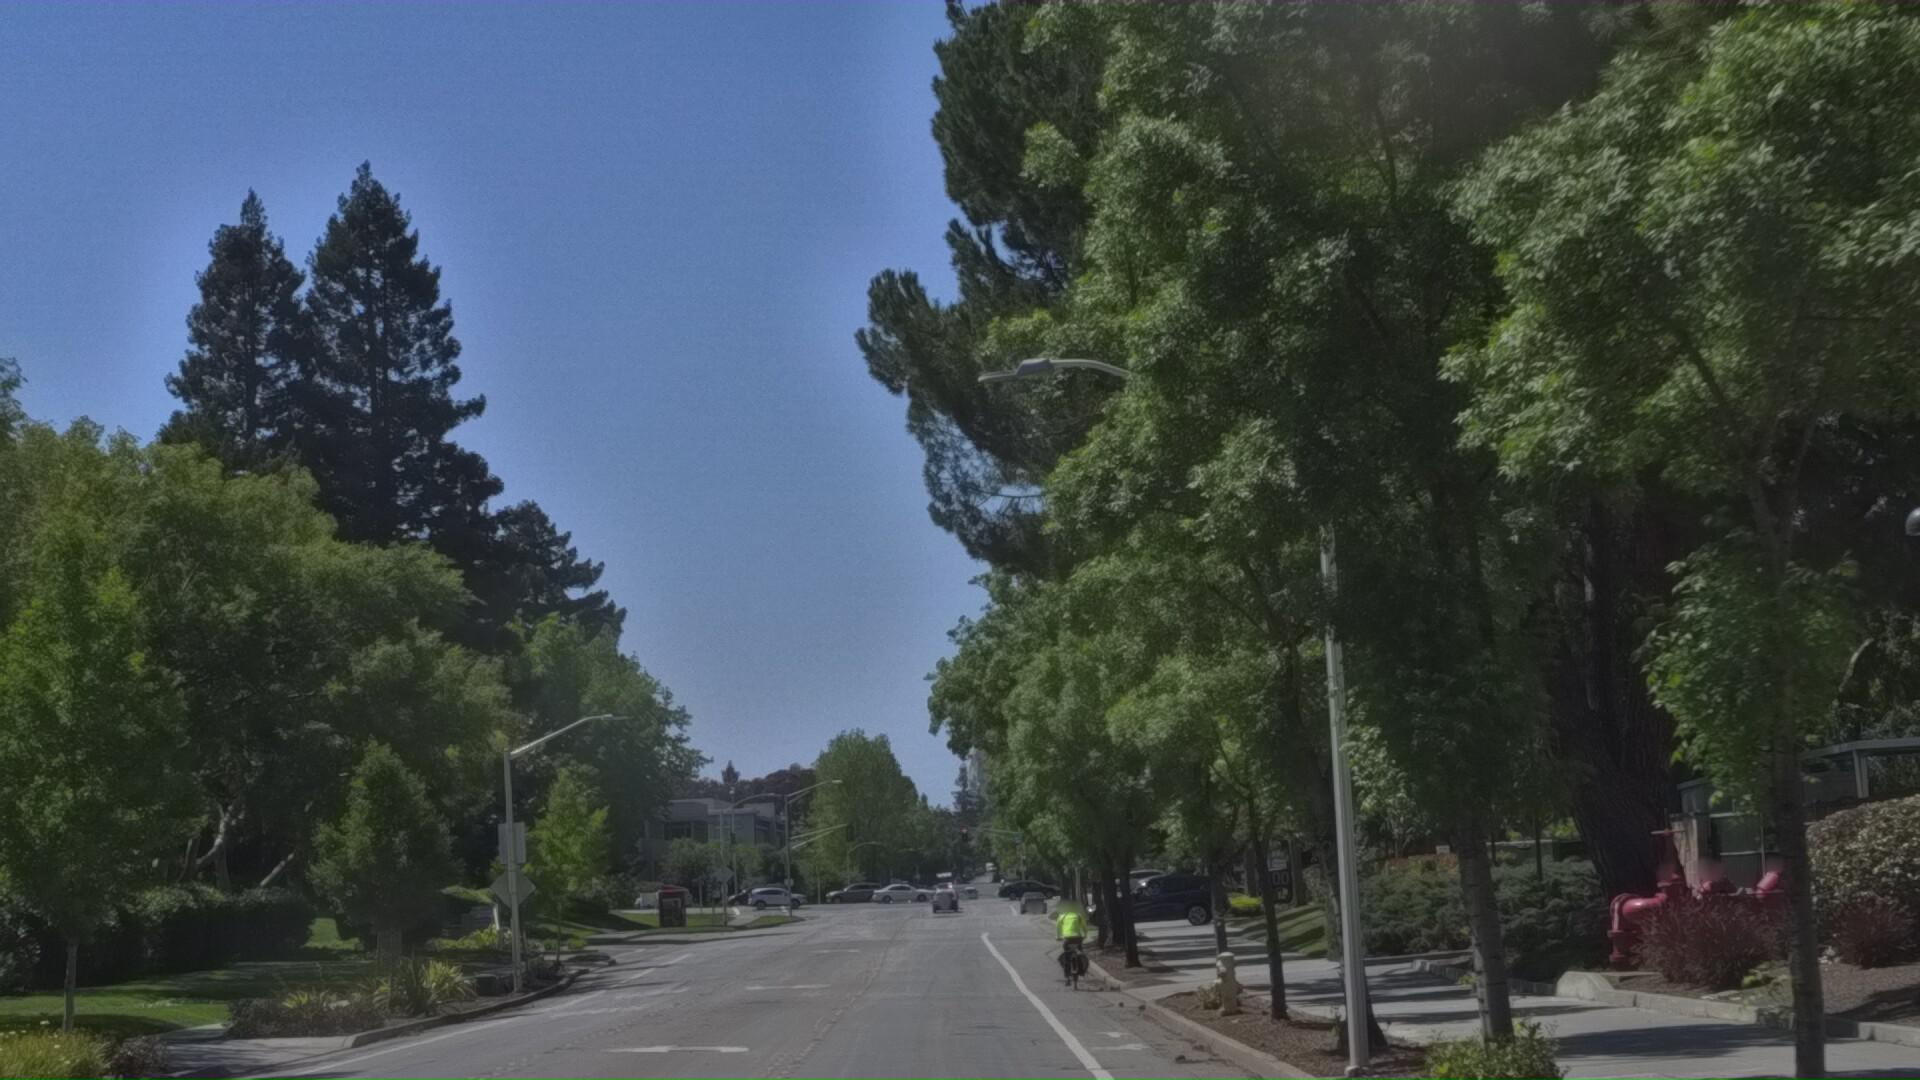bicycle: (1050, 887, 1118, 1000)
